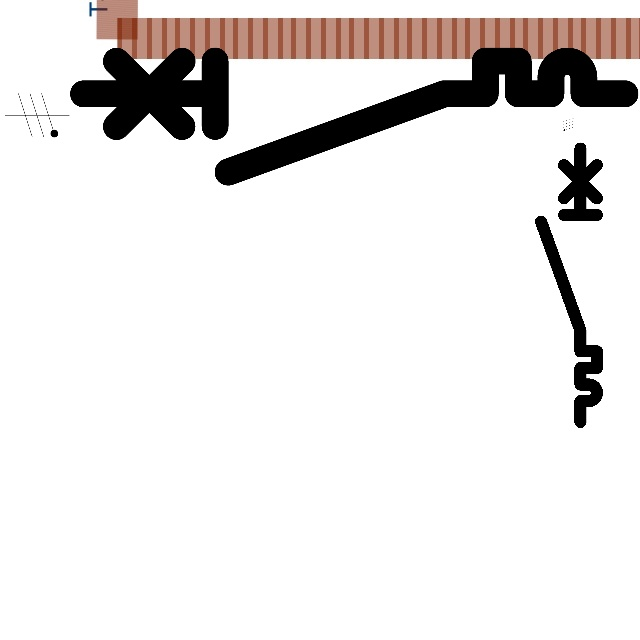interruptor_termomagnetico: (69, 47, 639, 186), (534, 141, 604, 428)
